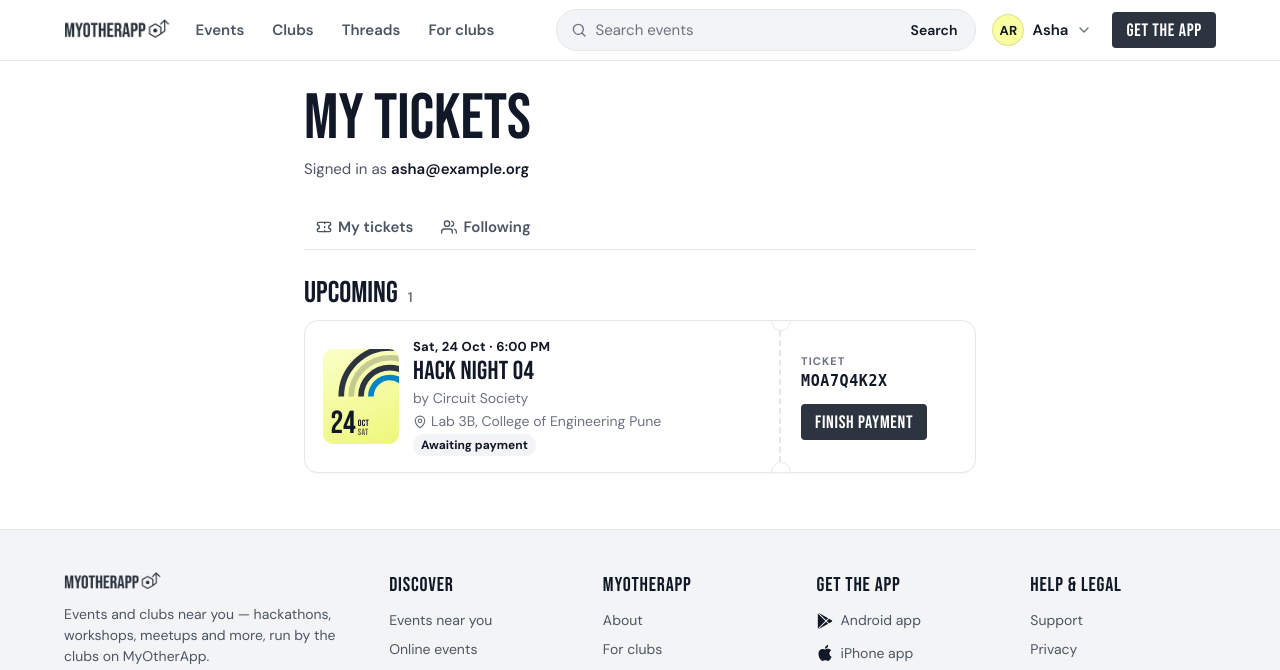
Test: Finish payment, from My tickets › says plainly when the event is over (EVENT_ENDED), and charges nothing
Click the button with aria-label "Finish payment for Hack Night 04" at (864, 422), box [801,404,927,440]
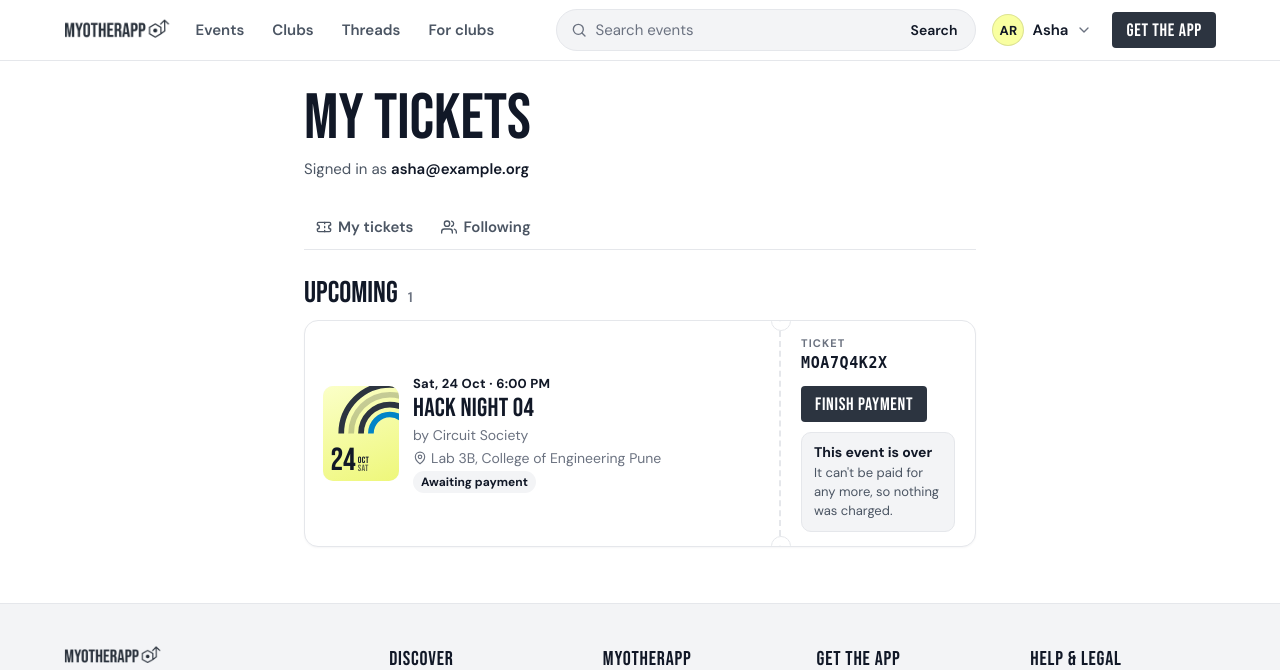
Check: the button with aria-label "Finish payment for Hack Night 04" is enabled, box [801,386,927,422]
Check: the message shows "This event is over", box [814,443,932,461]
Check: the message shows "It can't be paid for any more, so nothing was charged.", box [814,464,939,519]
